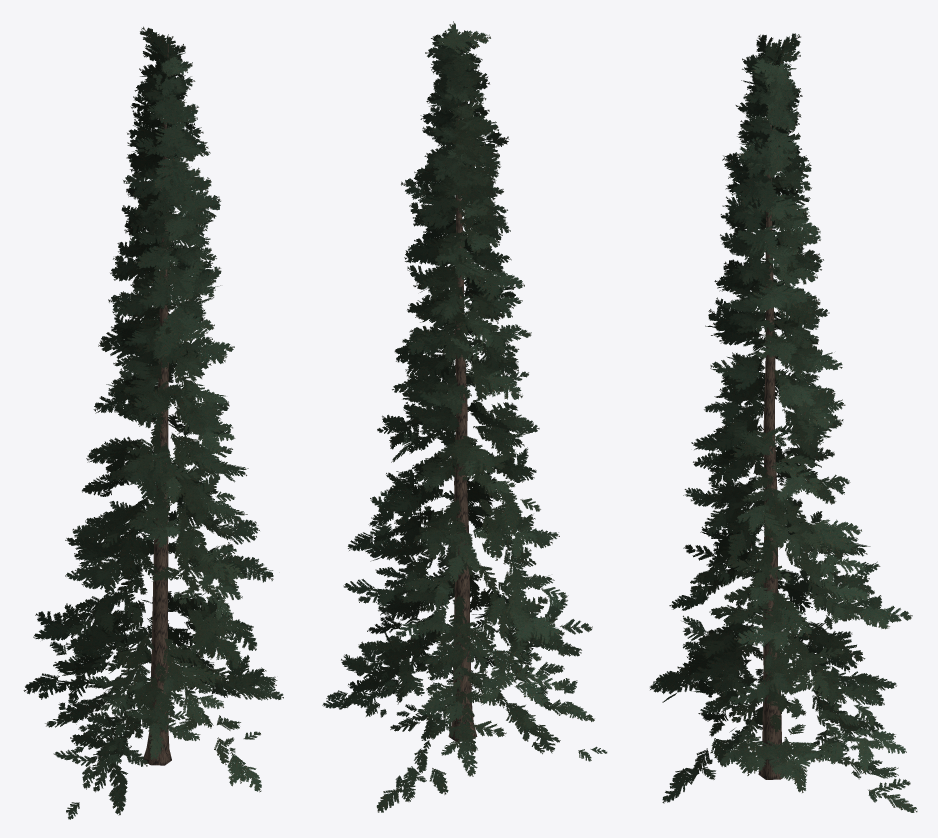
File: pine_c_lod1.glb
3 views of the same model, side by side, from view 1: azimuth 30°, elevation 25°; view 2: azimuth 150°, elevation 25°; view 3: azimuth 270°, elevation 25° (orthographic). The views are drawn at different scales.
Visible parts, largest first — view 1: pine_c_lod1; view 2: pine_c_lod1; view 3: pine_c_lod1.
Boxes of the visible parts, <box> form: pine_c_lod1: <box>23,26,283,819</box>; pine_c_lod1: <box>322,21,607,812</box>; pine_c_lod1: <box>650,33,917,812</box>.
Size of the model in its own units: 11.21 by 33.45 by 10.91.
Materials: 2 (2 with a texture image).
